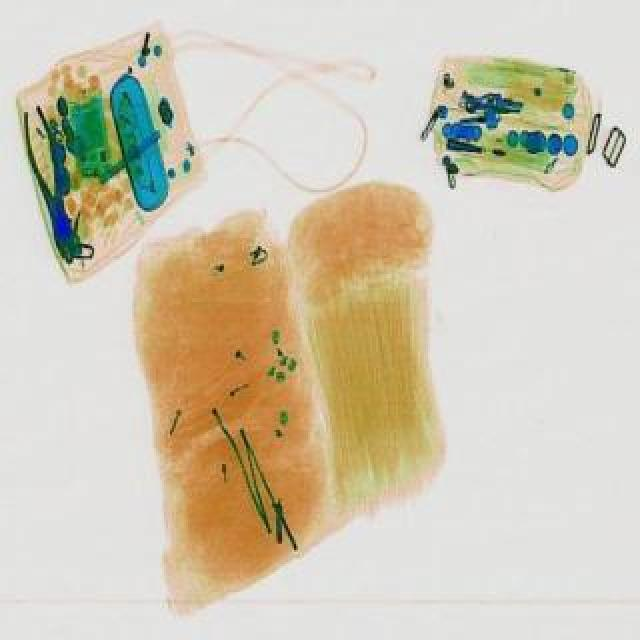wrench: (16, 108, 86, 272)
